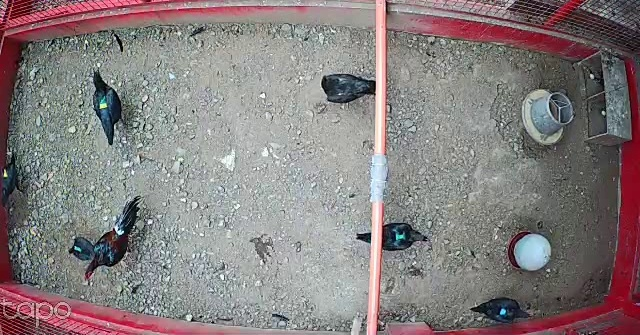Chicken: (90, 59, 129, 147), (353, 221, 439, 254), (320, 64, 376, 111), (469, 290, 535, 326), (0, 151, 25, 207), (62, 233, 100, 263)
Rooster: (83, 195, 148, 284)
Saddle_Color_Blue: (499, 308, 507, 315)
Saddle_Color_Yellow: (2, 168, 9, 179)
Saddle_Color_YellowGreen: (97, 94, 109, 109)
